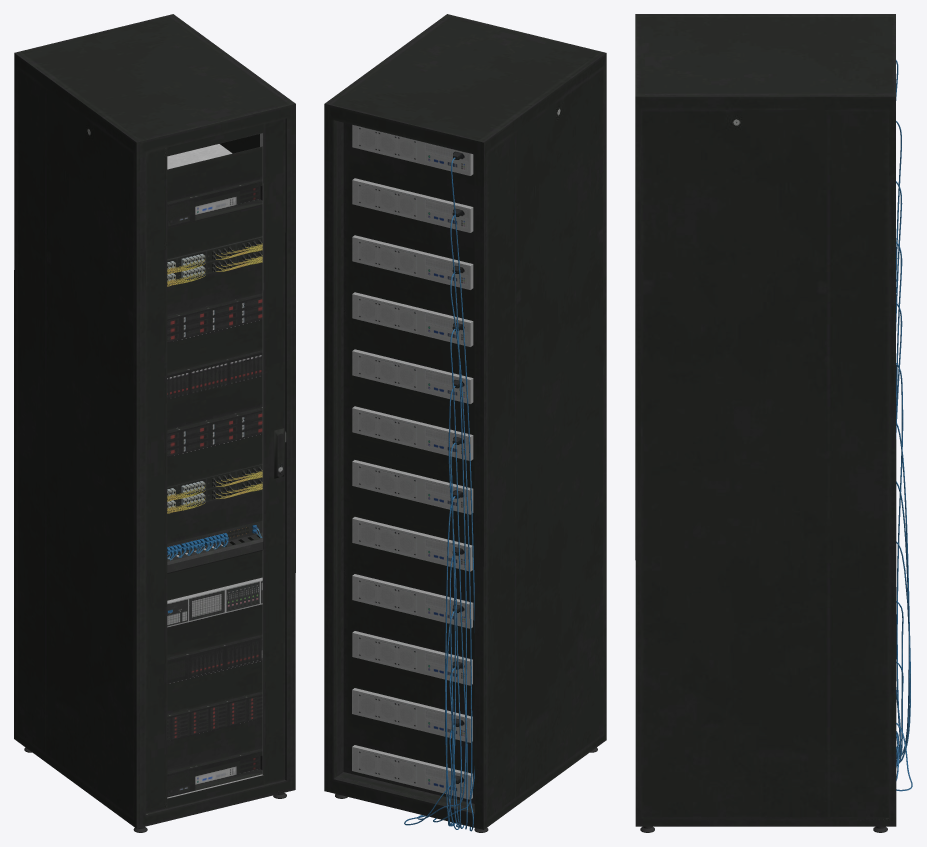
The model's file is data-center-server-rack.glb.
3 renders of one model, left to right at view 1: azimuth 30°, elevation 25°; view 2: azimuth 150°, elevation 25°; view 3: azimuth 270°, elevation 25°, orthographic. The views are drawn at different scales.
Parts seen in each view (by area): view 1: StingrayPBS4, StingrayPBS3, StingrayPBS2; view 2: StingrayPBS4, StingrayPBS2; view 3: StingrayPBS4, StingrayPBS2.
Boxes of the visible parts, left/top/right/bottom form: StingrayPBS4: left=14, top=14, right=295, bottom=832; StingrayPBS3: left=167, top=144, right=262, bottom=797; StingrayPBS2: left=167, top=236, right=263, bottom=627; StingrayPBS4: left=324, top=14, right=606, bottom=832; StingrayPBS2: left=352, top=125, right=474, bottom=831; StingrayPBS4: left=635, top=14, right=896, bottom=832; StingrayPBS2: left=896, top=60, right=912, bottom=791.
Size of what is drawn, in the model's own units: 60 by 250 by 85.2.
Materials: 3 (3 with a texture image).
